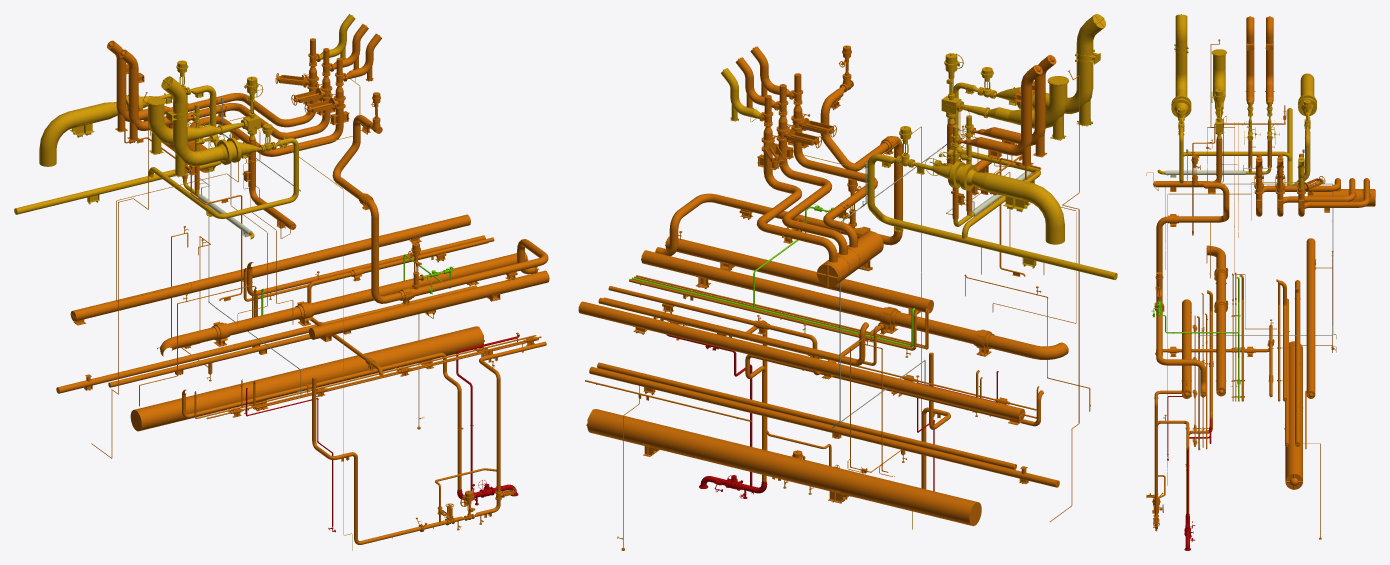
3 renders of one model, left to right at view 1: azimuth 30°, elevation 25°; view 2: azimuth 150°, elevation 25°; view 3: azimuth 270°, elevation 25°, orthographic. The views are drawn at different scales.
Size of the model in its own units: 22.43 by 23.23 by 11.94.
